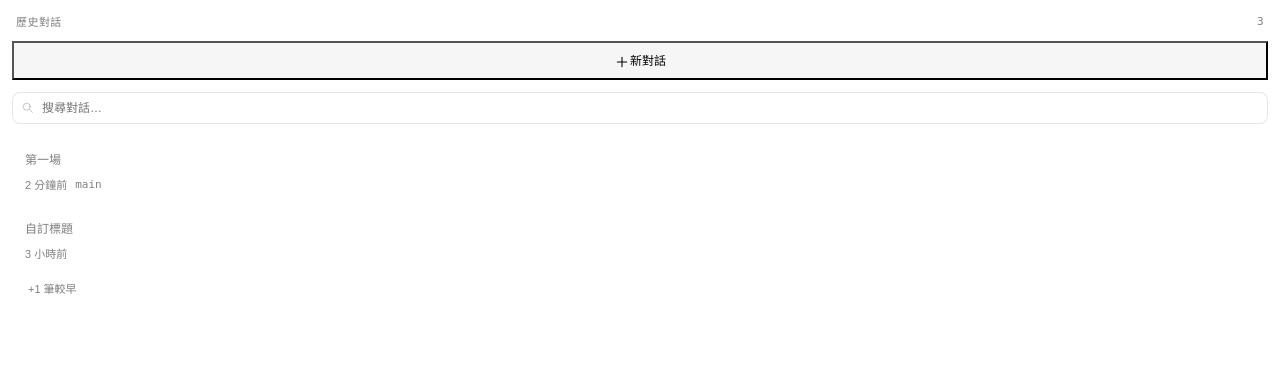
it: Recents 依 thread 分組 › 按「+N 筆較早」展開較早的 session,再按一次收合
What coordinates should you click on to do the following:
click the button with class "recents-expand"
I would click on:
 (52, 288)
Its box is [20,276,85,300].
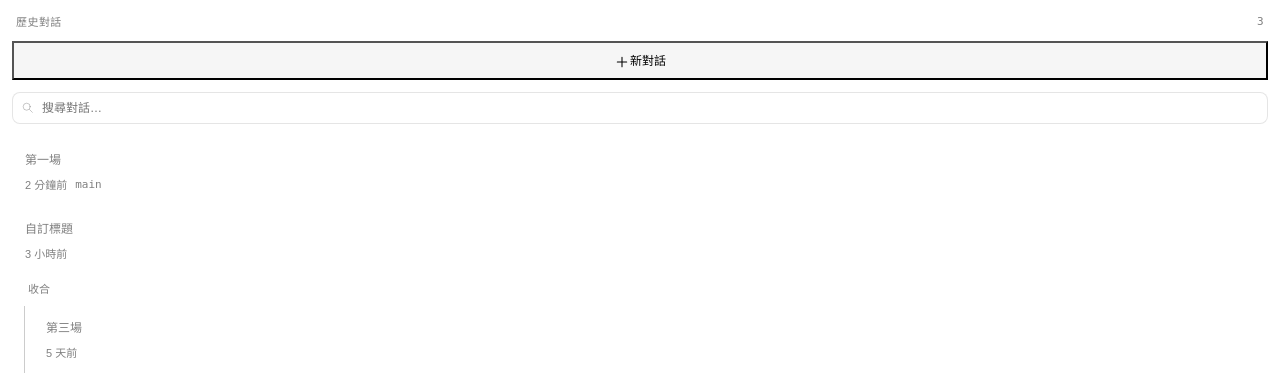
Check: the button with class "recents-expand" reads "收合"
Check: the button with class "recents-expand" is expanded
What coordinates should you click on to do the following:
click the button with class "recents-expand"
I would click on:
 (39, 288)
Its box is [20,276,58,300].
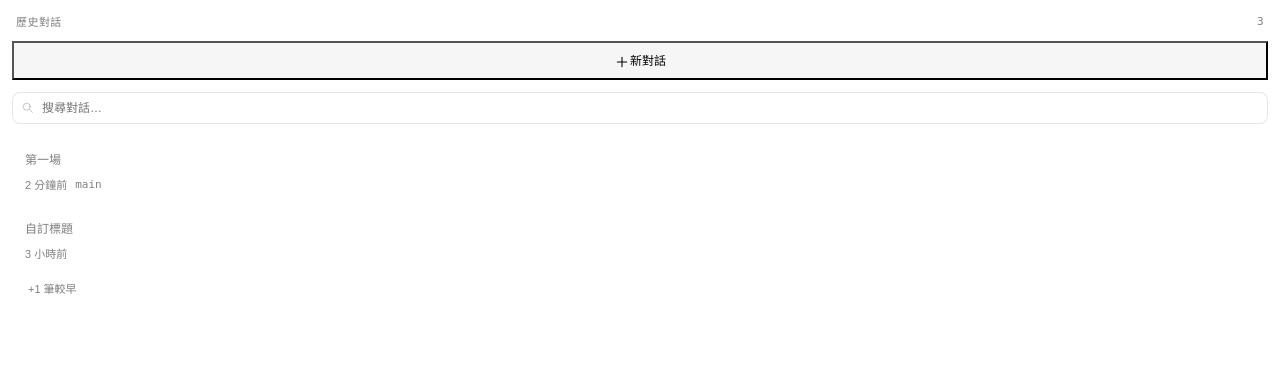
Check: the number of elements with class "recents-title" is 2, box [25,153,61,167]; [25,222,73,236]
